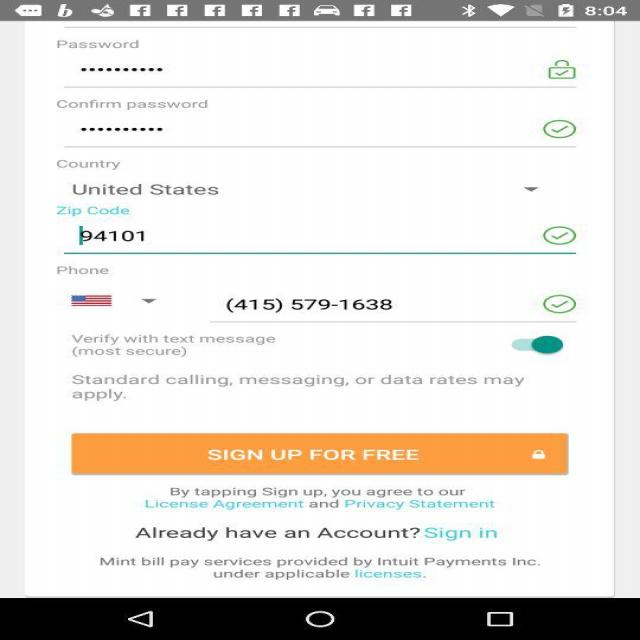button: (57, 424, 587, 492)
icon: (480, 45, 602, 384)
text: (44, 37, 411, 410), (85, 499, 544, 587)
